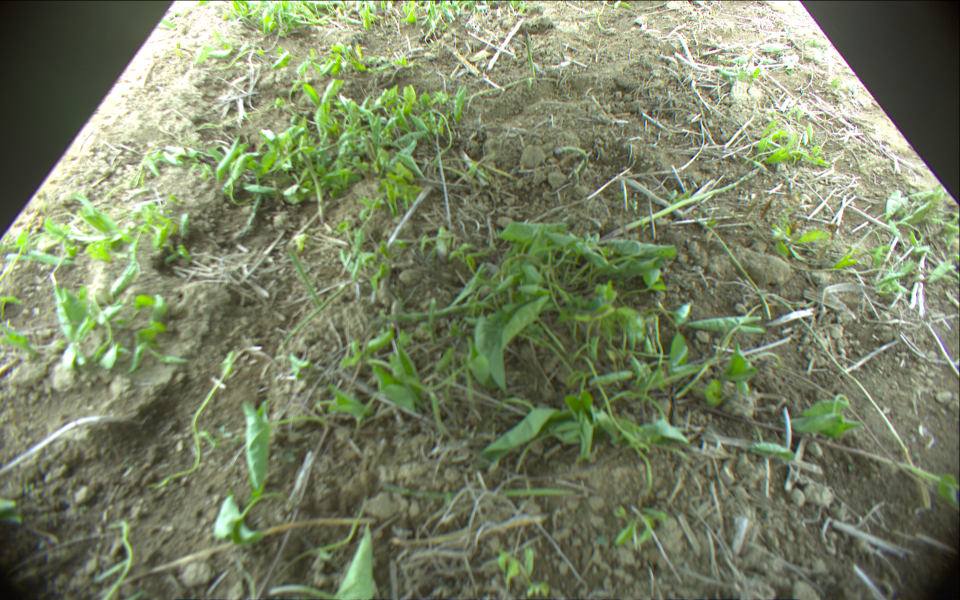aspa: (283, 240, 323, 312)
